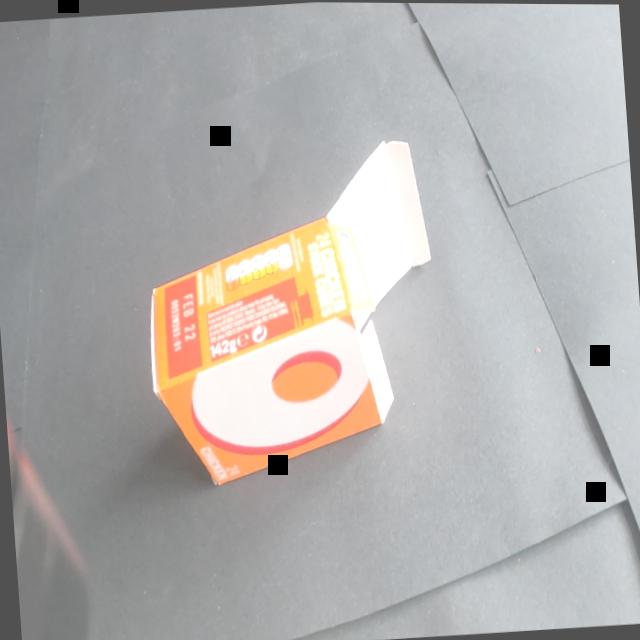Chickenstock: (113, 119, 470, 504)
